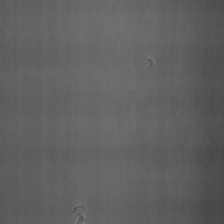rolled_pit: (68, 197, 88, 223), (142, 54, 158, 71)
